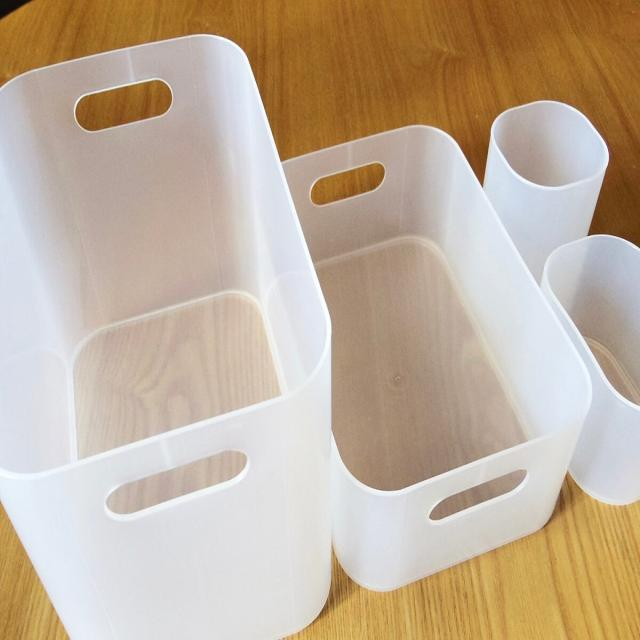plastic: (0, 32, 334, 640), (284, 99, 640, 594)
